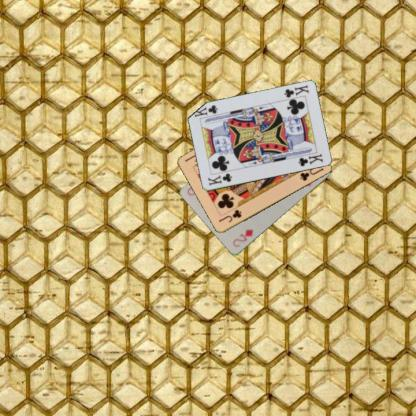2d: (230, 226, 254, 249)
Jc: (216, 207, 243, 224)
Kc: (281, 82, 310, 100), (205, 171, 233, 187)
